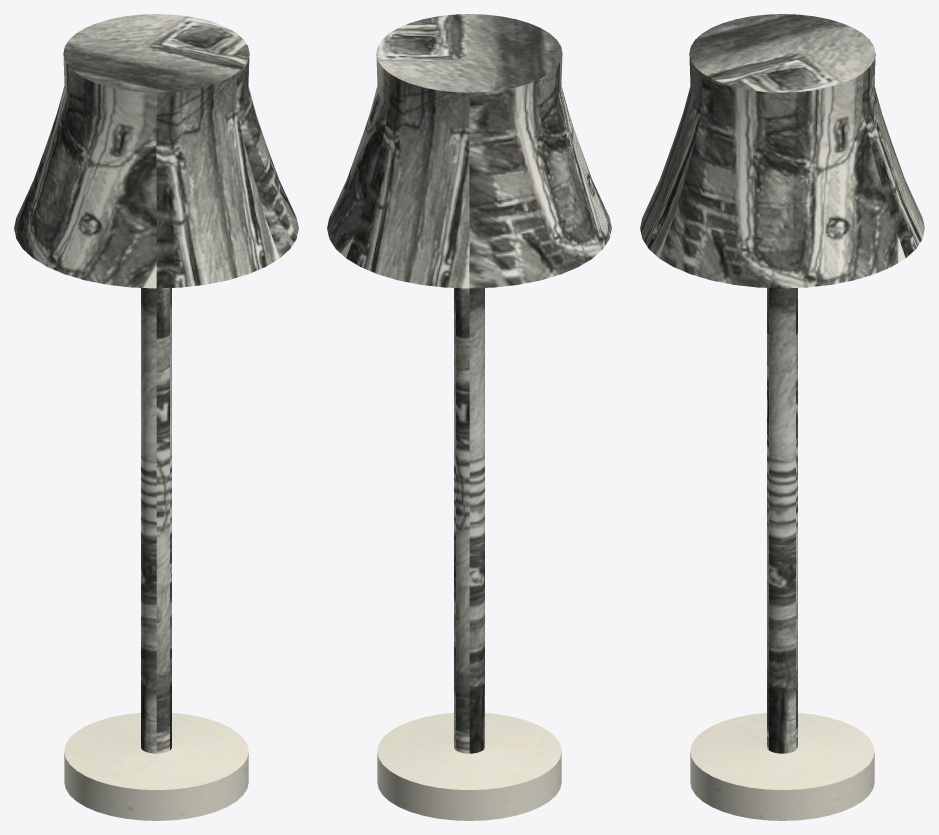
File: Lamp.fbx
3 renders of one model, left to right at view 1: azimuth 30°, elevation 25°; view 2: azimuth 150°, elevation 25°; view 3: azimuth 270°, elevation 25°, orthographic.
Parts seen in each view (by area): view 1: pCylinder8; view 2: pCylinder8; view 3: pCylinder8.
Boxes of the visible parts, x1,y1,x2,y2 form: pCylinder8: (14,14,298,820); pCylinder8: (327,14,611,820); pCylinder8: (640,14,924,820).
Size of the model in its own units: 56.69 by 160 by 56.69.
